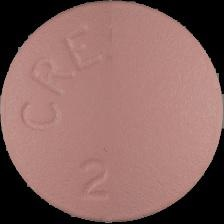54868-5085: (0, 0, 224, 224)
